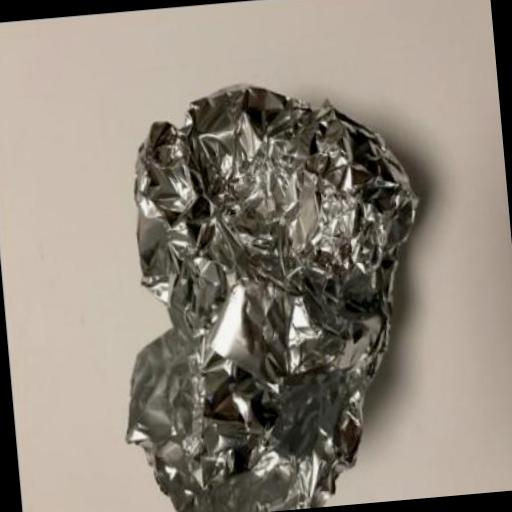metal: (92, 67, 443, 512)
